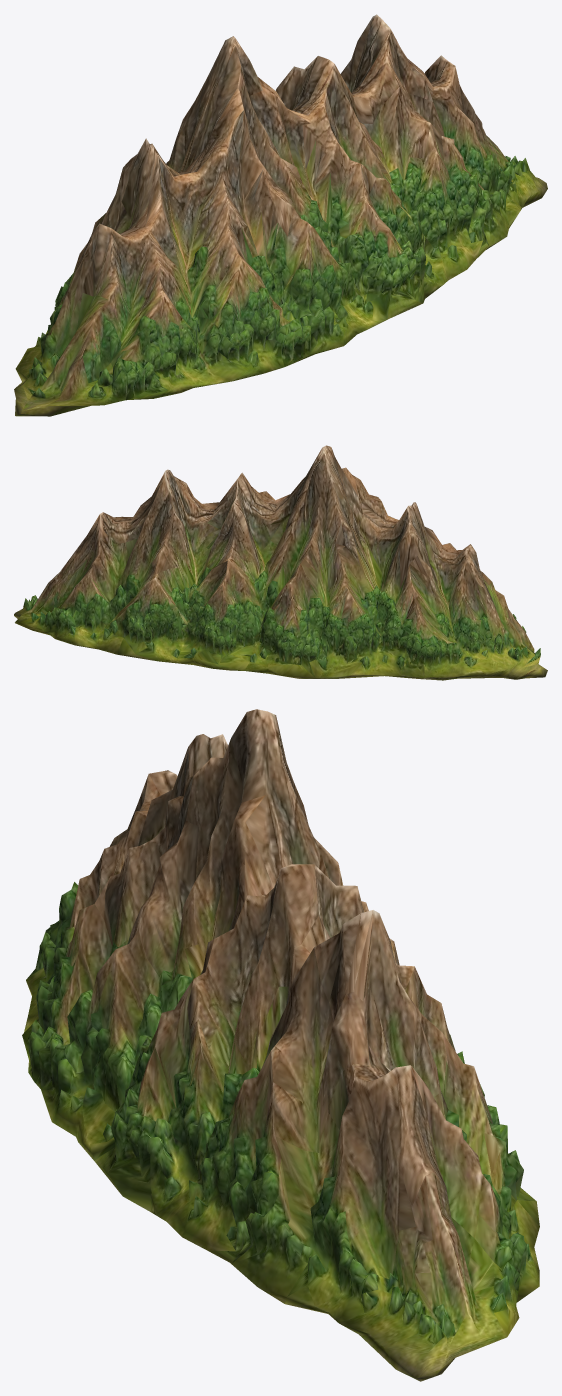
The model's file is range-a.glb.
3 renders of one model, top to bottom at view 1: azimuth 30°, elevation 25°; view 2: azimuth 150°, elevation 25°; view 3: azimuth 270°, elevation 25°, orthographic. The views are drawn at different scales.
Parts seen in each view (by area): view 1: range-a; view 2: range-a; view 3: range-a.
Boxes of the visible parts, bbox=[...] form: range-a: bbox=[14, 14, 547, 416]; range-a: bbox=[14, 445, 547, 680]; range-a: bbox=[22, 709, 539, 1381].
Size of the model in its own units: 1.9 by 0.8204 by 0.9285.
1 material, 1 textured.
